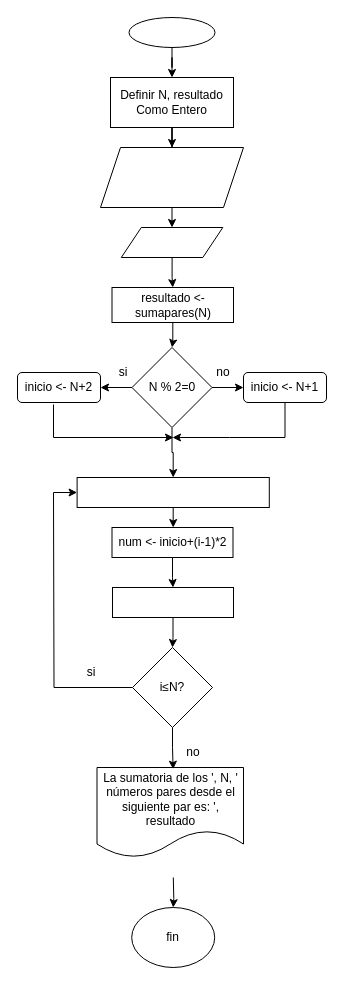
The diagram is 344 pixels wide and 985 high, and some of its shapes have lost their labels. The shapes that lost their labels are listed below. From the top down, each one's centre as x and y in pixels, then its label:
At point 171,32: "inicio".
At point 172,177: "Ingrese un número entero:".
At point 171,242: "Leer N".
At point 172,492: "i=1 Hasta N Con Paso 1".
At point 173,602: "sumatoria <- sumatoria+num".
